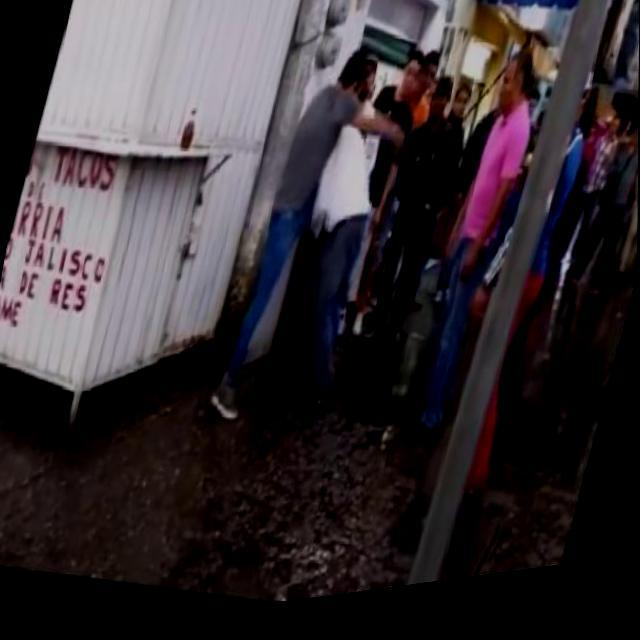fight: (212, 32, 429, 450)
